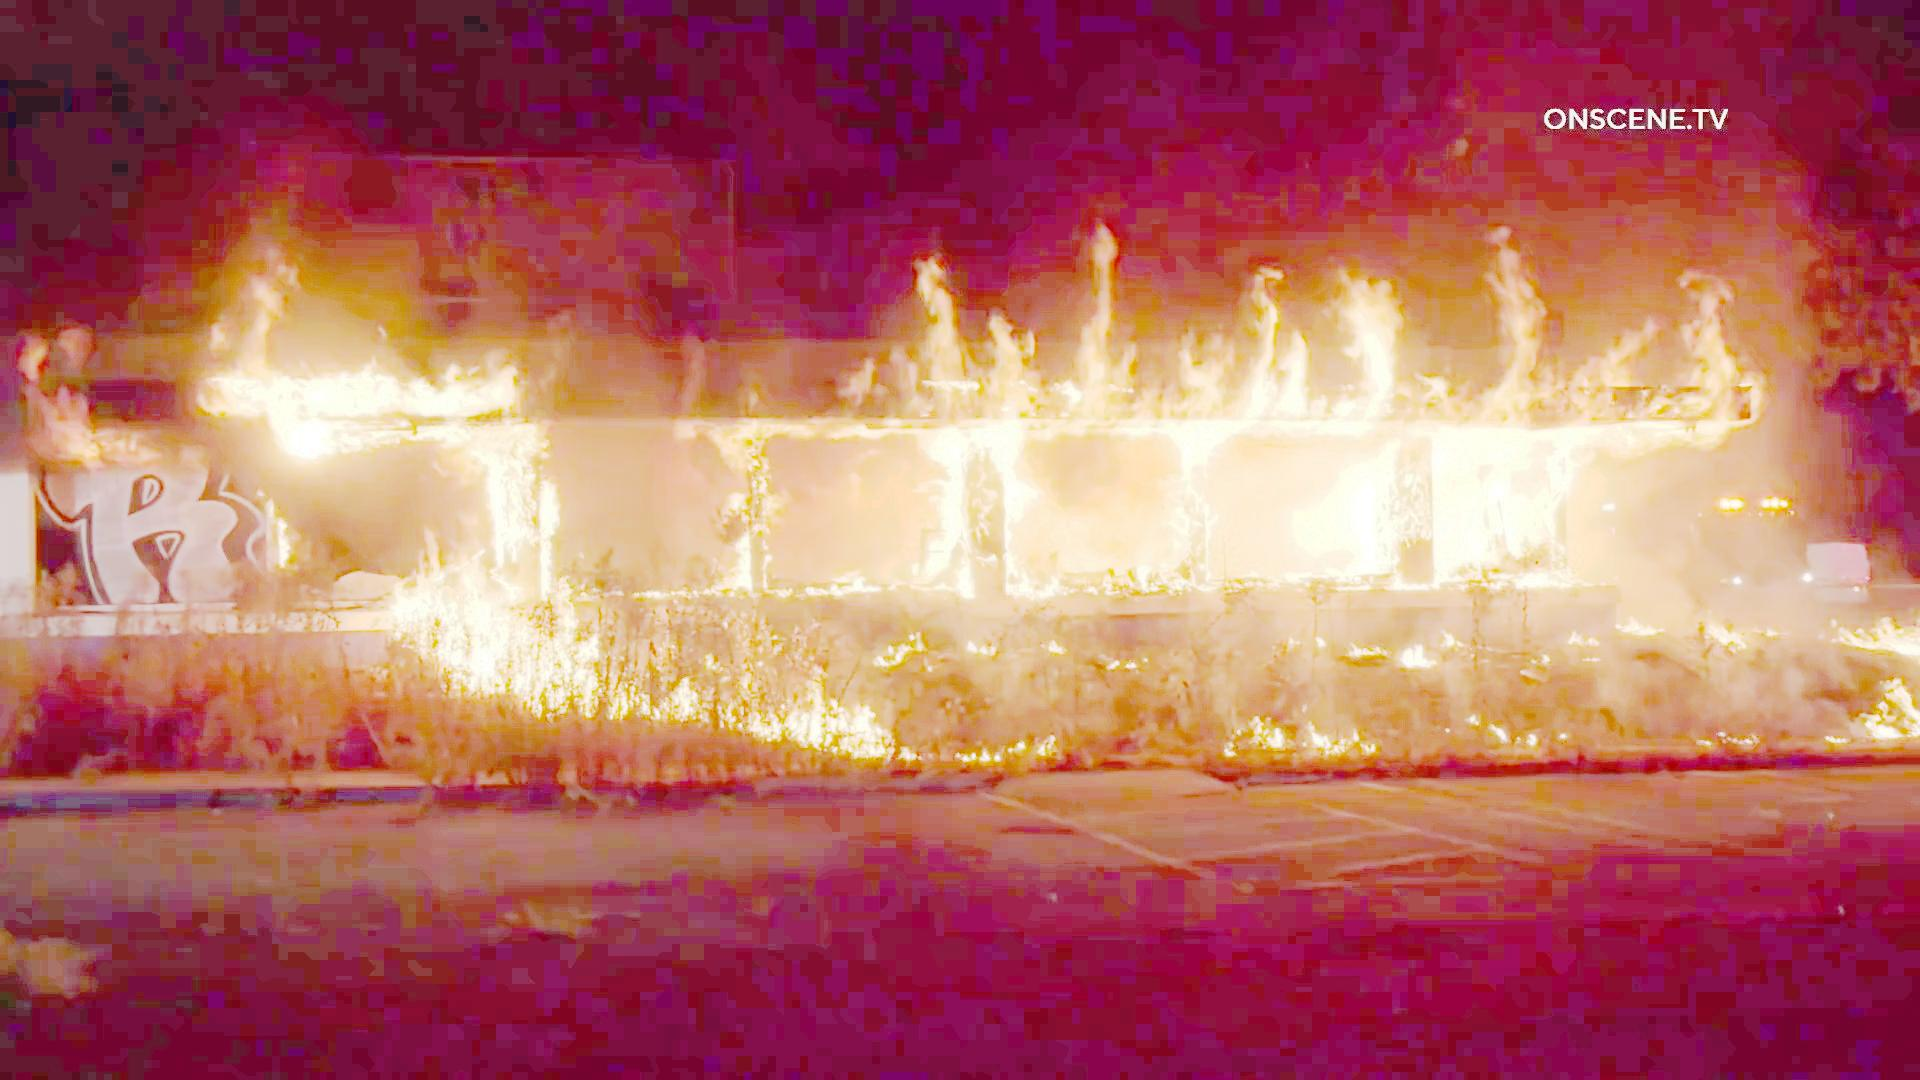fire: (223, 293, 562, 480), (836, 223, 1156, 421), (357, 530, 607, 720), (1178, 253, 1436, 435), (1465, 240, 1655, 429), (756, 433, 967, 584), (986, 430, 1174, 588), (1193, 433, 1381, 579), (1441, 435, 1635, 567), (1651, 268, 1749, 402)
